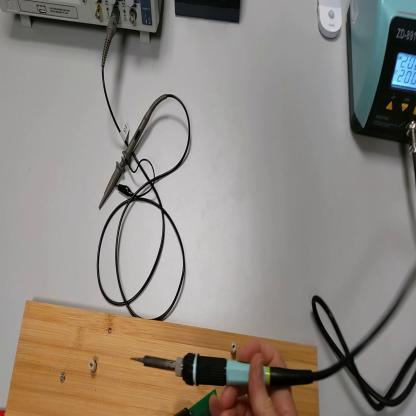hand: (213, 339, 299, 416)
high voltage board: (176, 389, 218, 416)
oscilloscope: (1, 3, 165, 44)
oscilloscope probe tip: (100, 98, 156, 212)
welder probe tip: (133, 352, 317, 393)
welder station: (347, 3, 416, 146)
working area: (4, 297, 320, 416)
